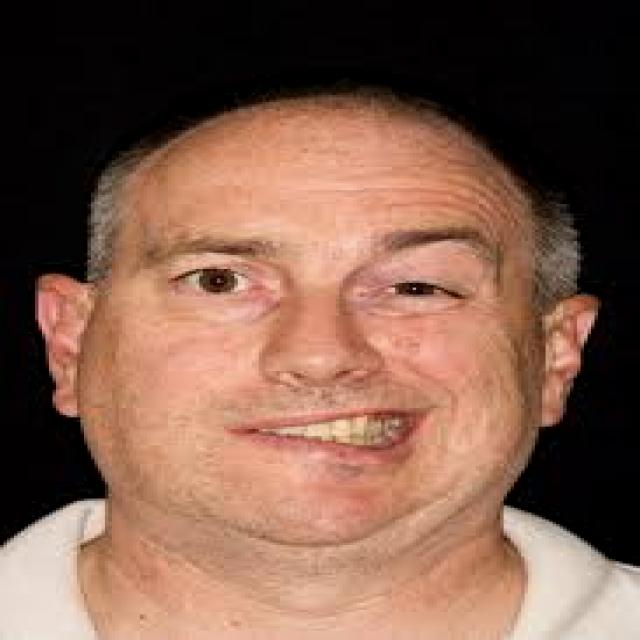stroke_face: (57, 93, 592, 561)
